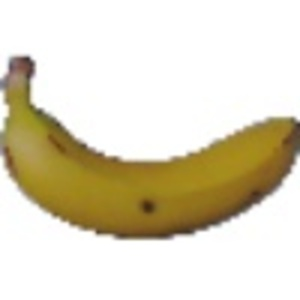banana: (4, 44, 296, 247)
